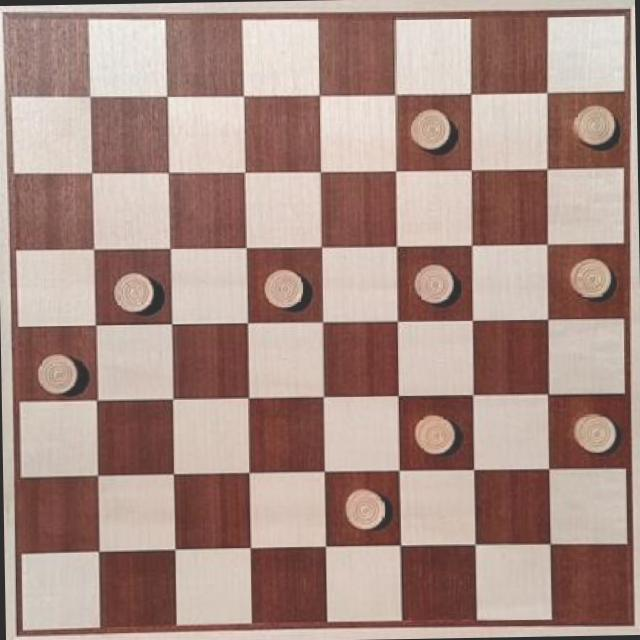BOARD: (4, 3, 636, 634)
white: (563, 253, 615, 304), (570, 96, 618, 150), (32, 347, 82, 397), (338, 481, 387, 532), (409, 408, 460, 456), (109, 268, 158, 317), (409, 102, 454, 152), (570, 410, 618, 456), (409, 259, 456, 304), (264, 264, 306, 310)
